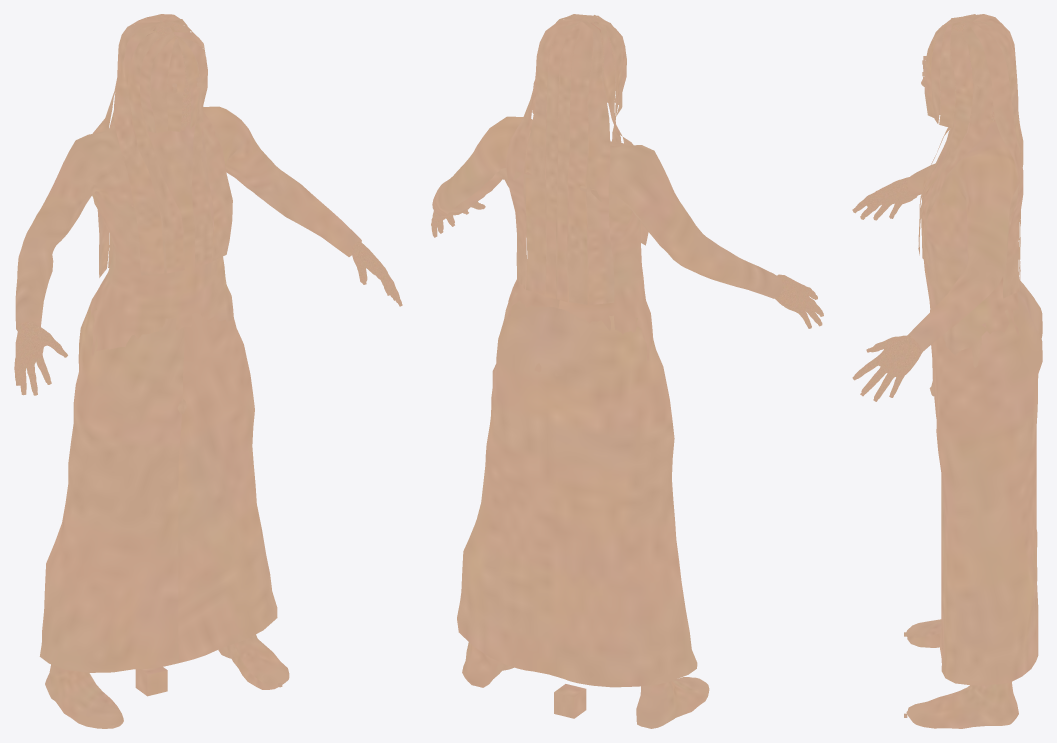
The model's file is makehuman-body.glb.
3 renders of one model, left to right at view 1: azimuth 30°, elevation 25°; view 2: azimuth 150°, elevation 25°; view 3: azimuth 270°, elevation 25°, orthographic.
Visible parts, largest first — view 1: Body; view 2: Body; view 3: Body.
Boxes of the visible parts, box(x1,y1,x2,y2) form: Body: box(14, 14, 402, 728); Body: box(431, 14, 823, 728); Body: box(852, 14, 1042, 728).
Bounding box in the file's own units: 1.01 × 1.72 × 0.4425.
1 material, 1 textured.
